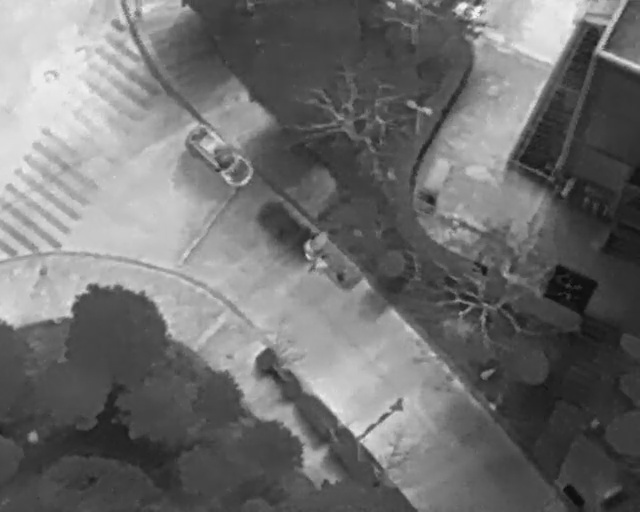Car: (178, 117, 262, 195)
